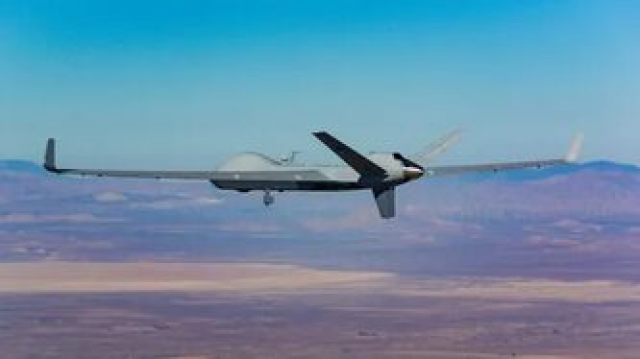military drone: (43, 130, 584, 218)
